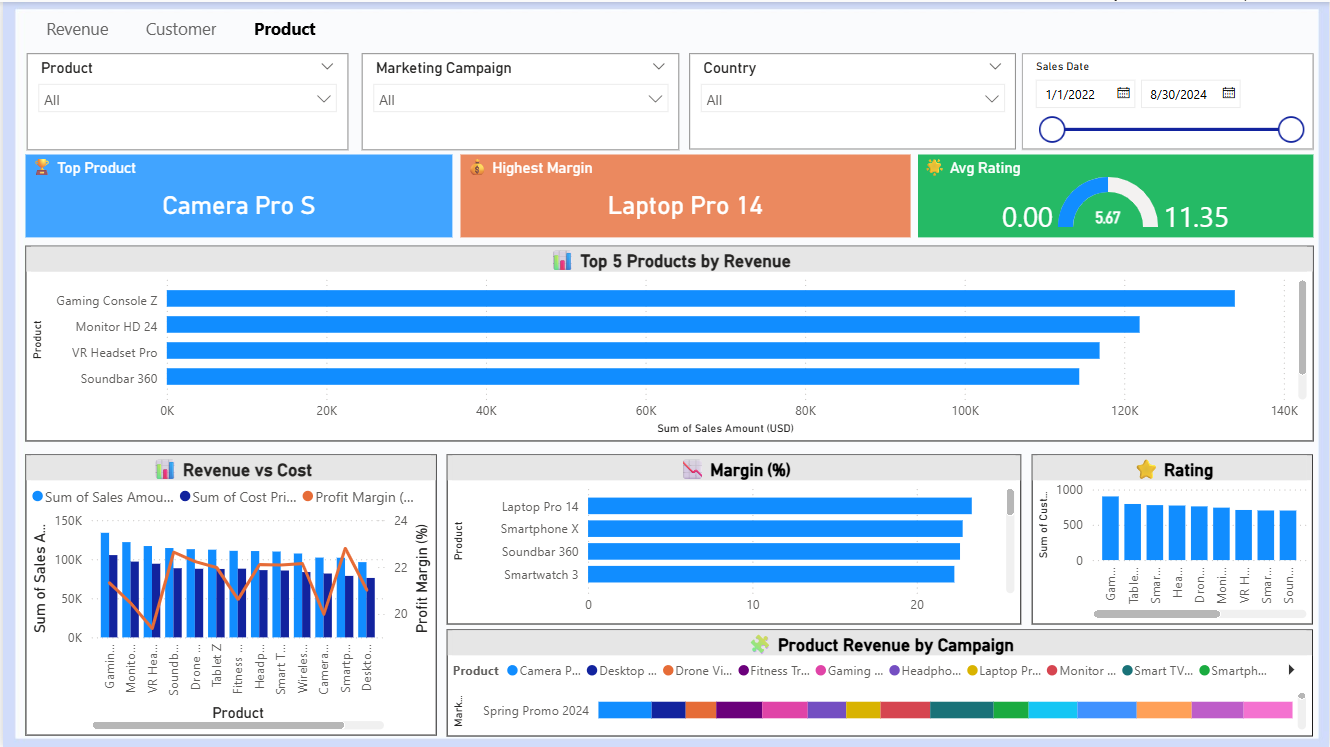

The page's visual inventory and layout, read from the dashboard file:
{"tool":"powerbi","page":{"name":"Product","canvas":[1280,720],"ordinal":2},"visuals":[{"type":"actionButton","title":"Revenue","box":[21.8,5.1,100,40],"z":0},{"type":"actionButton","title":"Revenue","box":[121.4,5.1,100,40],"z":1},{"type":"actionButton","title":"Revenue","box":[221.4,5.1,100,40],"z":2},{"type":"card","title":"🏆 Top Product","fields":{"Values":["All Measure.TopProduct"]},"box":[21.9,147.5,412.1,80.1],"z":3},{"type":"slicer","fields":{"Values":["productData.Product"]},"box":[23.3,50,310,93.3],"z":4},{"type":"slicer","fields":{"Values":["marketingCampaignData.Marketing Campaign"]},"box":[346.7,50,306.7,93.3],"z":5},{"type":"slicer","fields":{"Values":["Country Flag.Country"]},"box":[661.8,50,315.5,92.7],"z":6},{"type":"slicer","fields":{"Values":["fact_sales_data.Sales Date"]},"box":[982.7,50,281.8,92.7],"z":7},{"type":"card","title":"💰 Highest Margin","fields":{"Values":["All Measure.Product with Highest Profit Margin (%)"]},"box":[441,147.5,434,80.1],"z":8},{"type":"gauge","title":"🌟 Avg Rating","fields":{"Y":["All Measure.Average Rating of Top Product"]},"box":[883.6,147.5,381.6,80.1],"z":9},{"type":"clusteredBarChart","title":" 📊 Top 5 Products by Revenue ","fields":{"Category":["productData.Product"],"Y":["Sum(fact_sales_data.Sales Amount (USD))"]},"box":[21.4,235.7,1242.9,188.6],"z":10},{"type":"lineClusteredColumnComboChart","title":"📊 Revenue vs Cost","fields":{"Category":["productData.Product"],"Y":["Sum(fact_sales_data.Sales Amount (USD))","Sum(fact_sales_data.Cost Price (USD))"],"Y2":["All Measure.Profit Margin (%)"]},"box":[21.4,437.1,397.1,271.4],"z":11},{"type":"clusteredBarChart","title":"📉 Margin (%)","fields":{"Category":["productData.Product"],"Y":["All Measure.Profit Margin (%)"]},"box":[428.6,437.1,554.3,164.3],"z":12},{"type":"clusteredColumnChart","title":"⭐ Rating","fields":{"Category":["productData.Product"],"Y":["Sum(fact_sales_data.Customer Rating)"]},"box":[992.9,437.1,271.4,164.3],"z":13},{"type":"hundredPercentStackedBarChart","title":"🧩 Product Revenue by Campaign","fields":{"Category":["marketingCampaignData.Marketing Campaign"],"Series":["productData.Product"],"Y":["Sum(fact_sales_data.Sales Amount (USD))"]},"box":[428.6,605.7,835.7,102.9],"z":14}]}

Visuals, with their boxes in screenshot pixels (x1, y1, x2, y2), scaled from the page's 1280x720 canvas onto the 1330x747 screenshot:
"Revenue" actionButton: BBox(23, 5, 127, 47)
"Revenue" actionButton: BBox(126, 5, 230, 47)
"Revenue" actionButton: BBox(230, 5, 334, 47)
"🏆 Top Product" card: BBox(23, 153, 451, 236)
slicer - productData.Product: BBox(24, 52, 346, 149)
slicer - marketingCampaignData.Marketing Campaign: BBox(360, 52, 679, 149)
slicer - Country Flag.Country: BBox(688, 52, 1015, 148)
slicer - fact_sales_data.Sales Date: BBox(1021, 52, 1314, 148)
"💰 Highest Margin" card: BBox(458, 153, 909, 236)
"🌟 Avg Rating" gauge: BBox(918, 153, 1315, 236)
" 📊 Top 5 Products by Revenue " clusteredBarChart: BBox(22, 245, 1314, 440)
"📊 Revenue vs Cost" lineClusteredColumnComboChart: BBox(22, 453, 435, 735)
"📉 Margin (%)" clusteredBarChart: BBox(445, 453, 1021, 624)
"⭐ Rating" clusteredColumnChart: BBox(1032, 453, 1314, 624)
"🧩 Product Revenue by Campaign" hundredPercentStackedBarChart: BBox(445, 628, 1314, 735)
